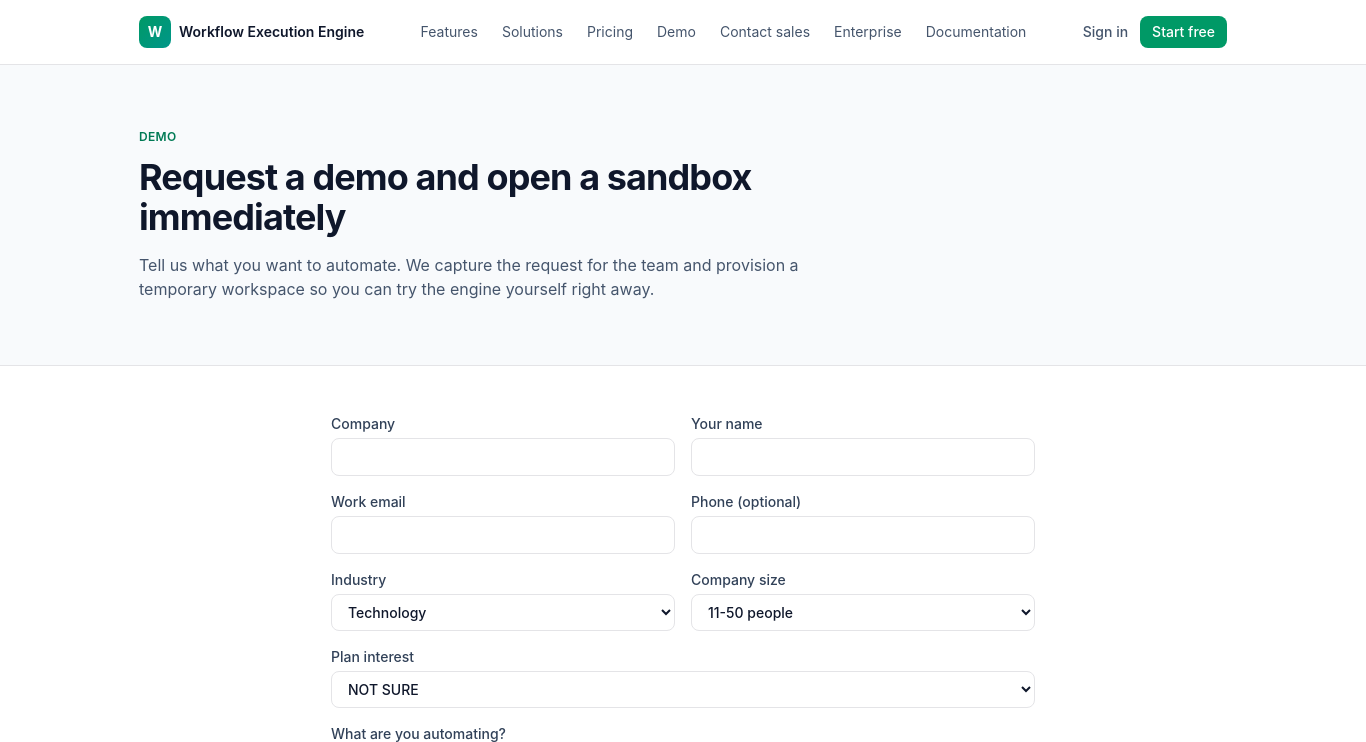
Phase 15.1 demo and contact-sales forms › surfaces a failed demo request instead of a sandbox
Type "Acme Automation" into the field labelled "Company".
click(503, 457); type("Acme Automation")  # box x1=331 y1=438 x2=675 y2=476
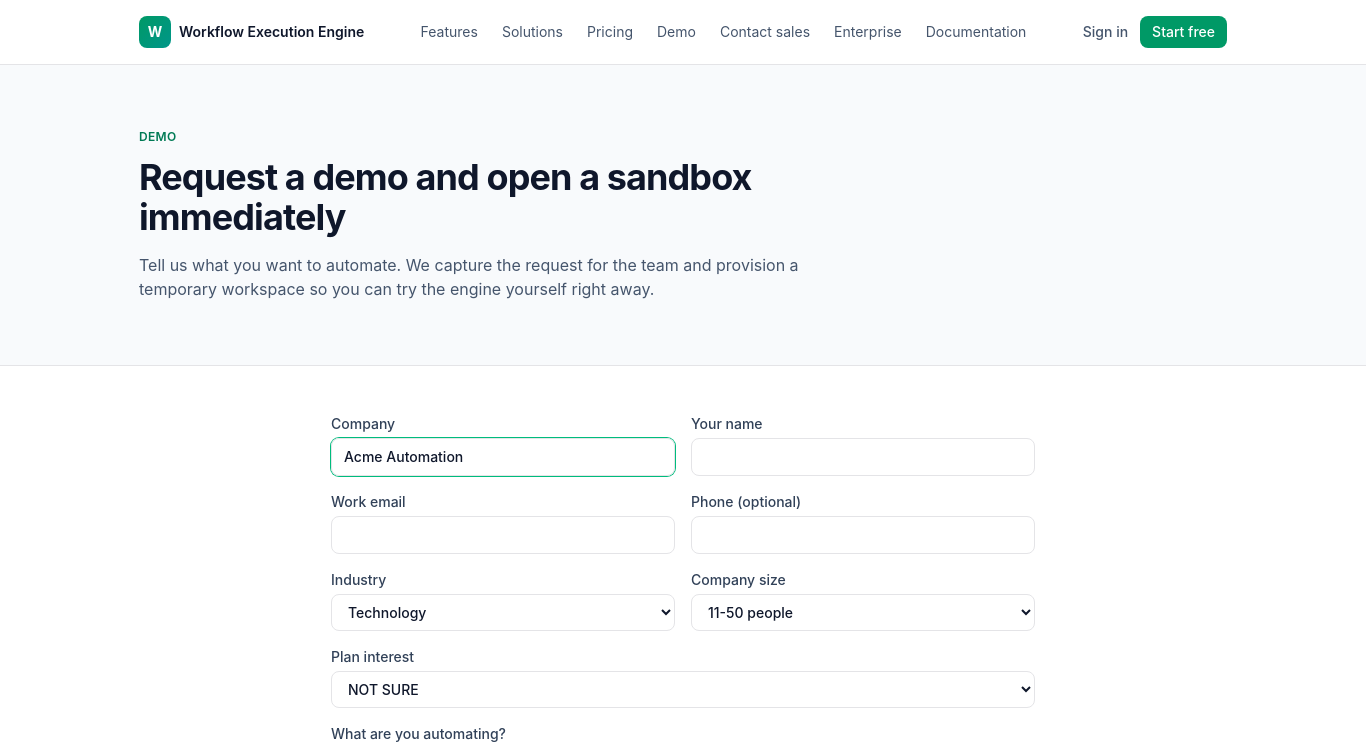
Type "Durai" into the field labelled "Your name".
click(863, 457); type("Durai")  # box x1=691 y1=438 x2=1035 y2=476
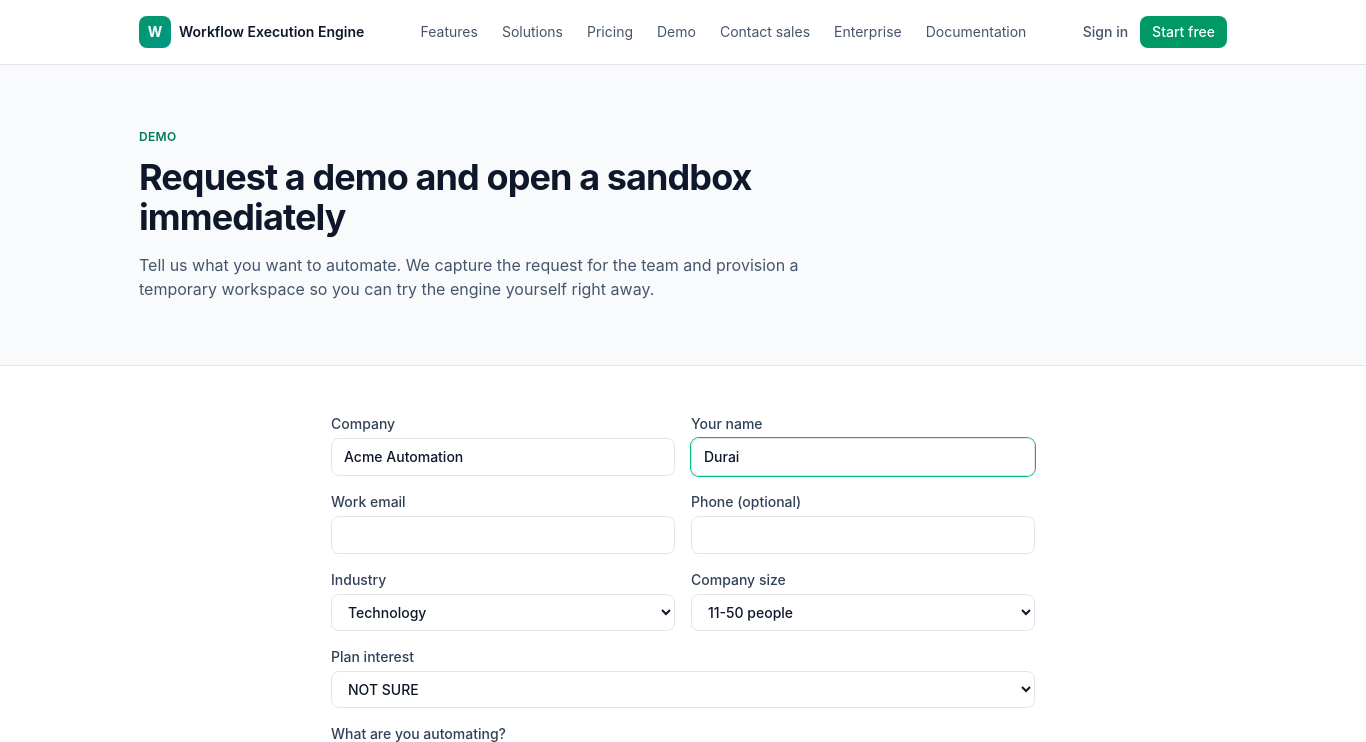
Type "durai@acme.test" into the field labelled "Work email".
click(503, 535); type("durai@acme.test")  # box x1=331 y1=516 x2=675 y2=554
(page scrolled)
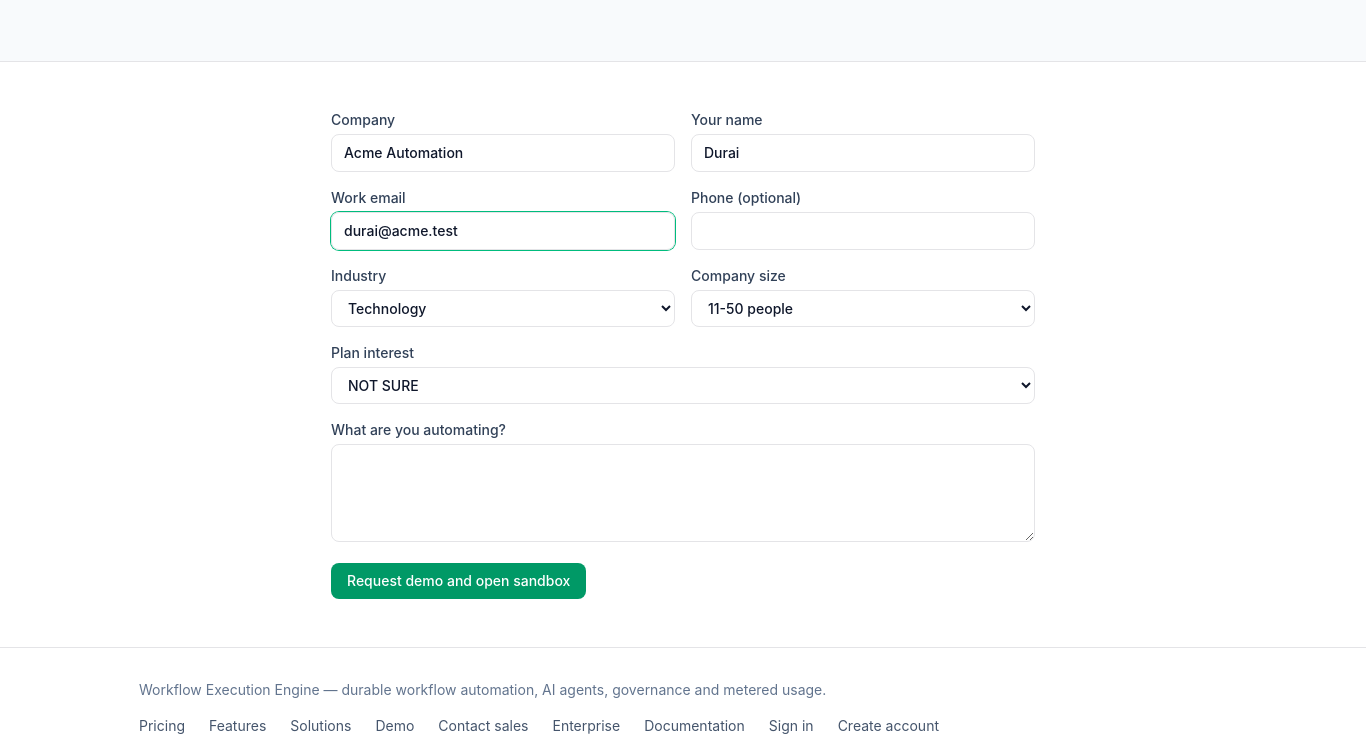
Click the button "Request demo and open sandbox".
click(459, 581)  # box x1=331 y1=563 x2=586 y2=599
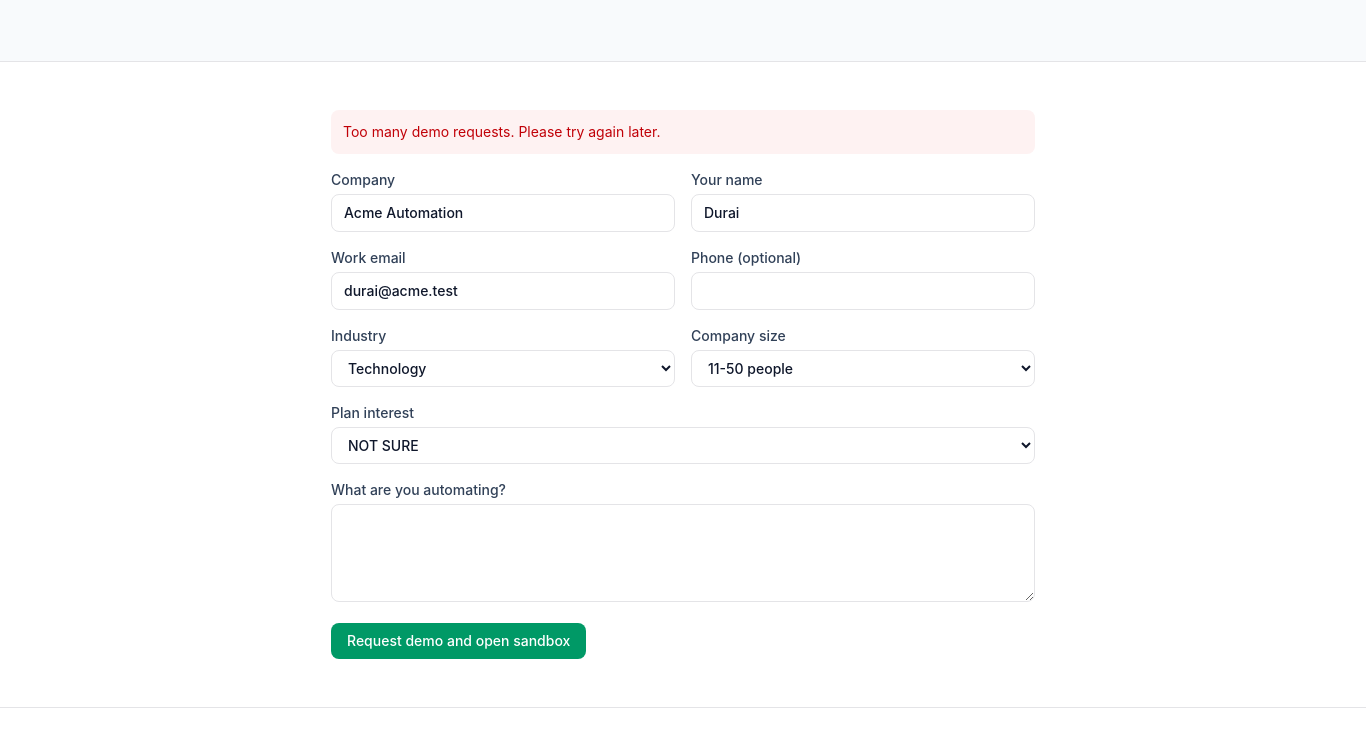
Expected: the text "Too many demo requests. Please try again later." is shown, x1=331 y1=110 x2=1035 y2=154
